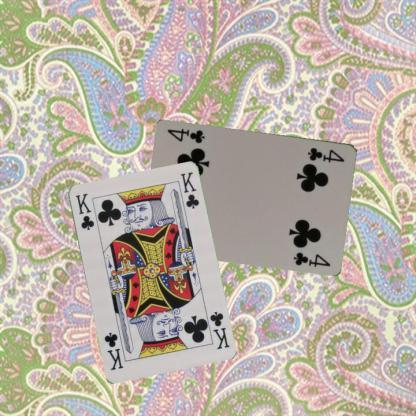4c: (305, 145, 346, 164)
Kc: (72, 190, 96, 231), (207, 308, 230, 350)
